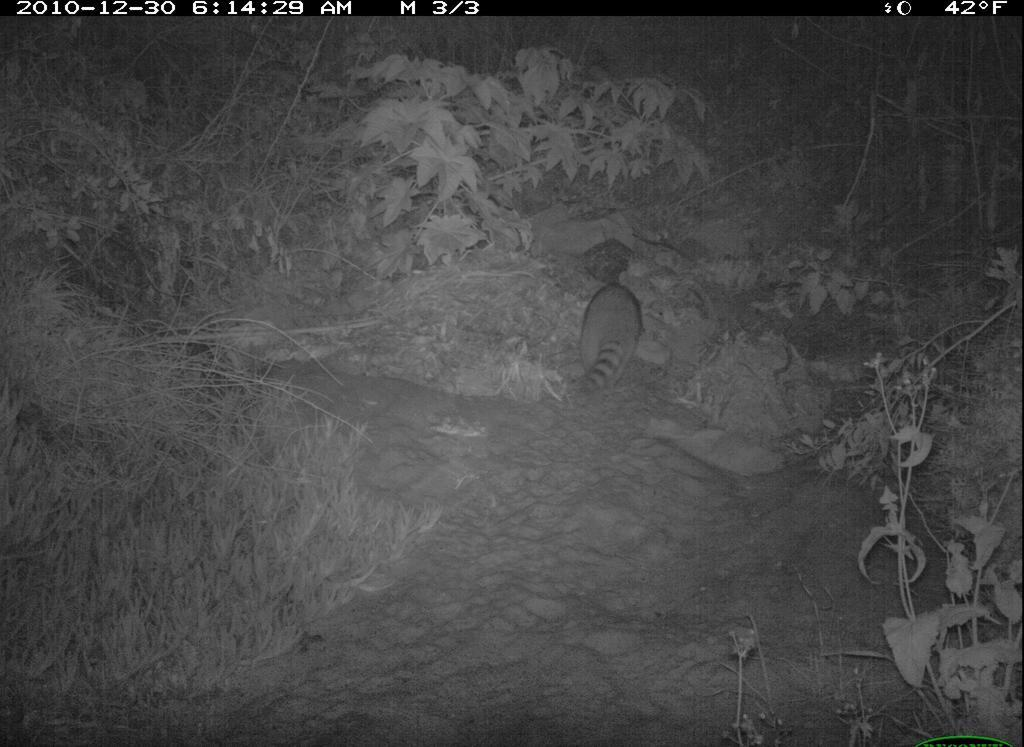raccoon: (560, 246, 665, 418)
